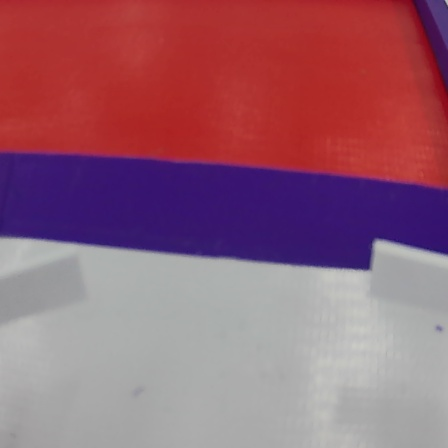red_aim: (0, 0, 448, 279)
